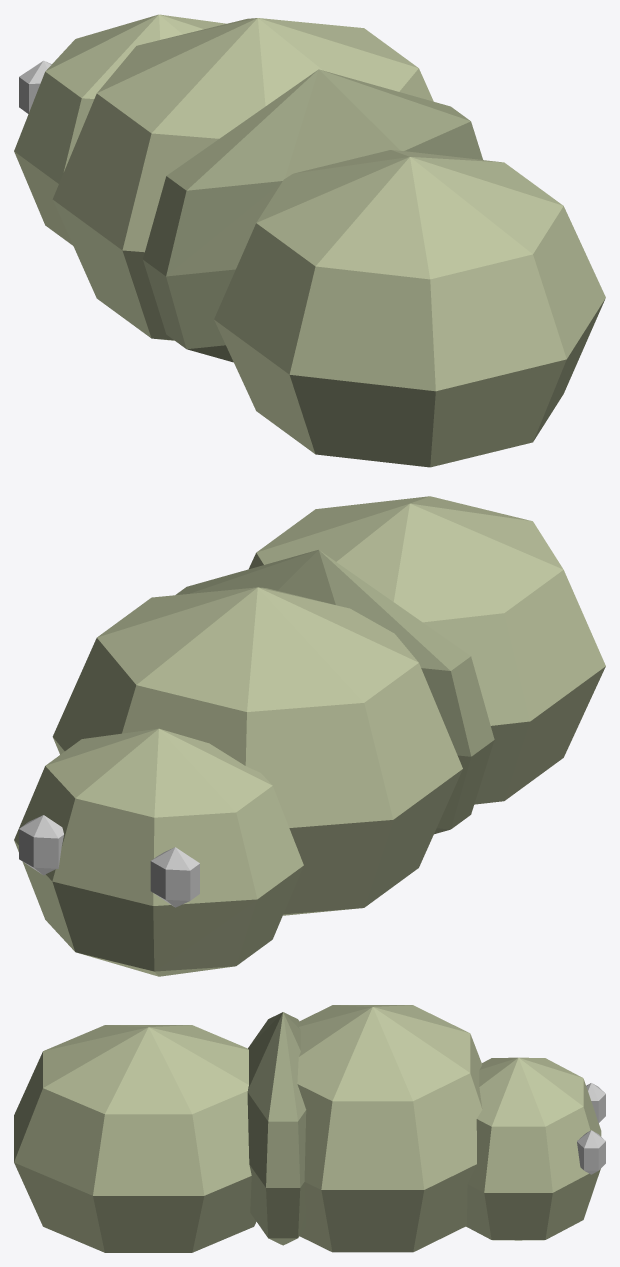
File: animal_larva.obj
The picture shows the model from 3 angles, top to bottom: view 1: azimuth 30°, elevation 25°; view 2: azimuth 150°, elevation 25°; view 3: azimuth 270°, elevation 25°; orthographic projection. The views are drawn at different scales.
Visible parts, largest first — view 1: animal_larva; view 2: animal_larva; view 3: animal_larva.
Boxes of the visible parts, box(x1,y1,x2,y2) form: animal_larva: box(14, 14, 605, 467); animal_larva: box(14, 496, 605, 976); animal_larva: box(14, 1005, 605, 1252).
Size of the model in its own units: 0.2586 by 0.24 by 0.5281.
